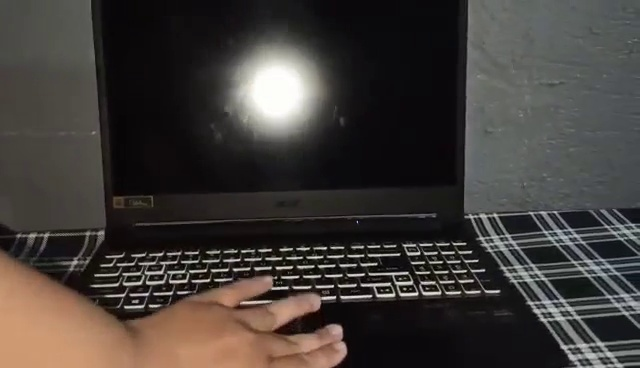laptop: (56, 1, 570, 368)
